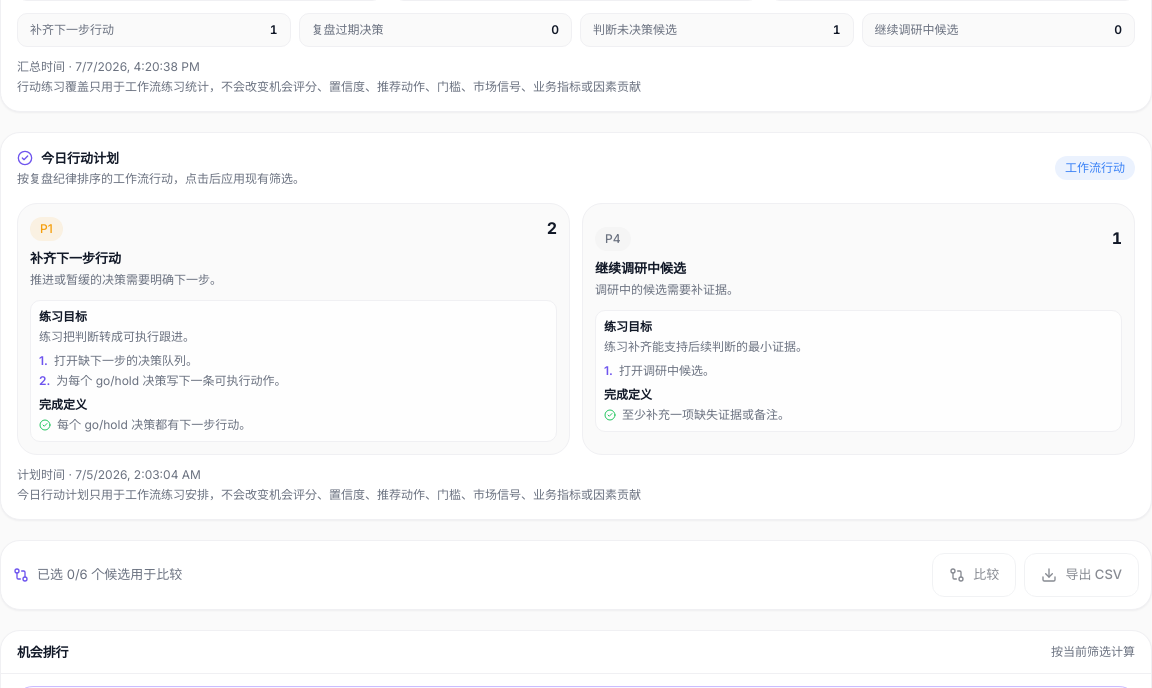
Test case: Opportunities page › renders daily action plan and applies suggested filters
The image size is (1152, 688).
(page scrolled)
Expected: the text "今日行动计划" is shown, left=17, top=150, right=119, bottom=166
Expected: the text "补齐下一步行动" below "只统计最近一次行动结果，作为工作流练习覆盖证据。" is shown, left=30, top=22, right=114, bottom=37
Click the button with aria-label "应用行动：补齐下一步行动" at point(294, 329), box left=17, top=203, right=570, bottom=454
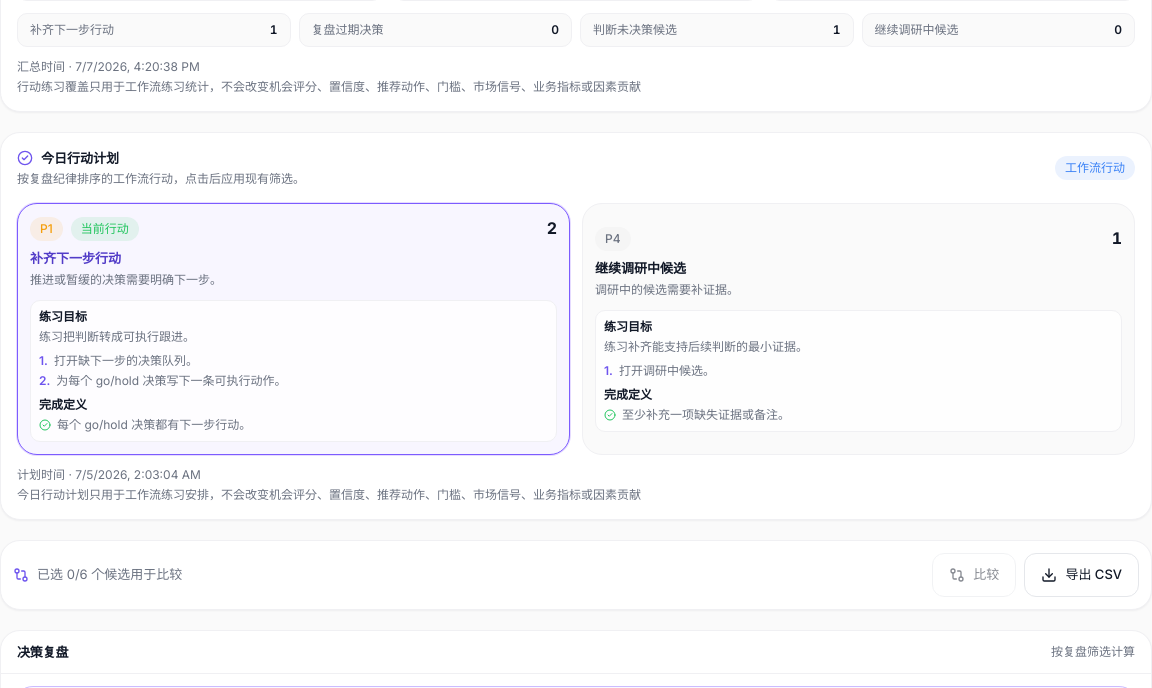
Now the text "当前行动" is shown, box left=71, top=217, right=139, bottom=241
